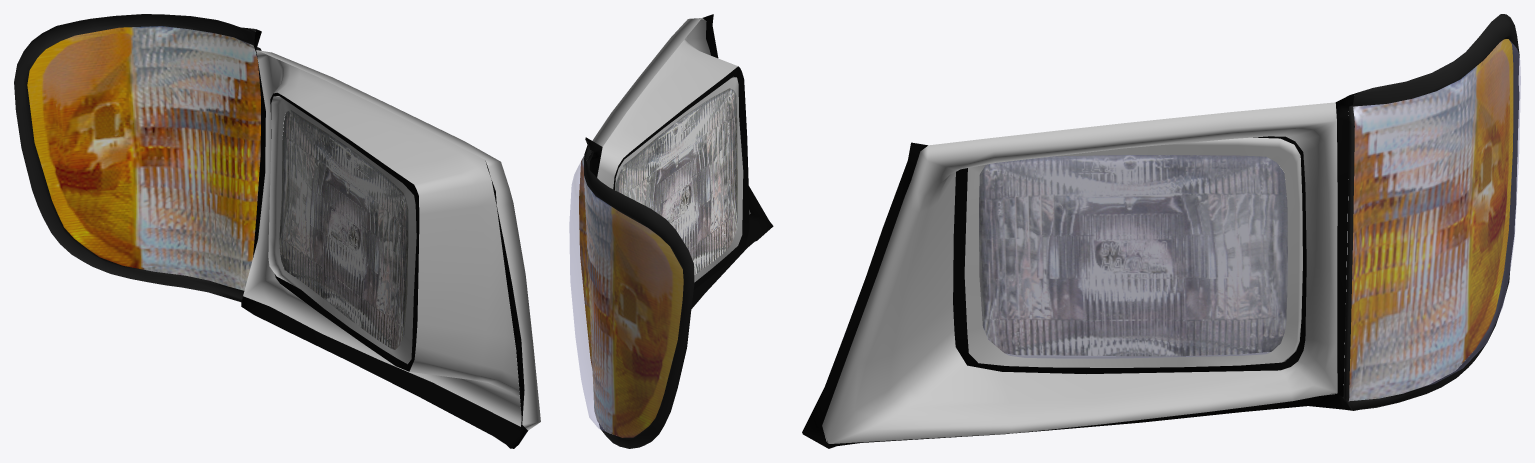
The picture shows the model from 3 angles, left to right: view 1: azimuth 30°, elevation 25°; view 2: azimuth 150°, elevation 25°; view 3: azimuth 270°, elevation 25°; orthographic projection. The views are drawn at different scales.
Visible parts, largest first — view 1: P615_5A_061B_L_P615_5A_061B_L_4_N, P615_5A_061B_L_3_DaS_P615_5A_061B_L, P615_5A_061B_L_P615_5A_061B_L_6_D, P615_5A_061B_L_P615_5A_061B_L_5_D; view 2: P615_5A_061B_L_P615_5A_061B_L_4_N, P615_5A_061B_L_P615_5A_061B_L_2_DTaSI, P615_5A_061B_L_3_DaS_P615_5A_061B_L, P615_5A_061B_L_P615_5A_061B_L_5_D, P615_5A_061B_L_P615_5A_061B_L_6_D; view 3: P615_5A_061B_L_P615_5A_061B_L_4_N, P615_5A_061B_L_3_DaS_P615_5A_061B_L, P615_5A_061B_L_P615_5A_061B_L_1_DTaSI, P615_5A_061B_L_P615_5A_061B_L_2_DTaSI, P615_5A_061B_L_P615_5A_061B_L_6_D, P615_5A_061B_L_P615_5A_061B_L_5_D.
Part boxes in pixels (<box>): P615_5A_061B_L_P615_5A_061B_L_4_N: <box>27,26,408,349</box>; P615_5A_061B_L_3_DaS_P615_5A_061B_L: <box>243,50,540,430</box>; P615_5A_061B_L_P615_5A_061B_L_6_D: <box>241,29,527,448</box>; P615_5A_061B_L_P615_5A_061B_L_5_D: <box>14,14,261,301</box>; P615_5A_061B_L_P615_5A_061B_L_4_N: <box>579,88,737,437</box>; P615_5A_061B_L_P615_5A_061B_L_2_DTaSI: <box>569,157,683,437</box>; P615_5A_061B_L_3_DaS_P615_5A_061B_L: <box>592,18,750,282</box>; P615_5A_061B_L_P615_5A_061B_L_5_D: <box>584,139,694,448</box>; P615_5A_061B_L_P615_5A_061B_L_6_D: <box>585,14,773,308</box>; P615_5A_061B_L_P615_5A_061B_L_4_N: <box>979,39,1513,401</box>; P615_5A_061B_L_3_DaS_P615_5A_061B_L: <box>822,102,1337,443</box>; P615_5A_061B_L_P615_5A_061B_L_1_DTaSI: <box>979,155,1287,358</box>; P615_5A_061B_L_P615_5A_061B_L_2_DTaSI: <box>1349,39,1520,400</box>; P615_5A_061B_L_P615_5A_061B_L_6_D: <box>802,92,1357,448</box>; P615_5A_061B_L_P615_5A_061B_L_5_D: <box>1342,14,1519,410</box>.
Size of the model in its own units: 22.49 by 22.98 by 44.94.
